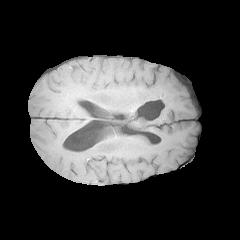glioma: (127, 88, 168, 131)
